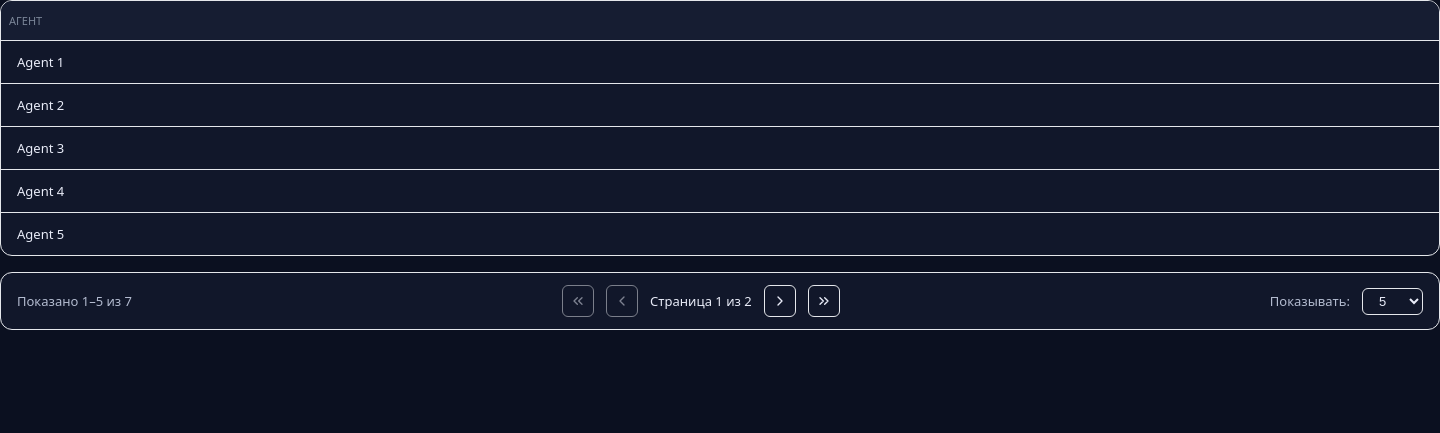
Test: changes the visible page size from the compact overview
Expected: the text "Agent 5" is shown, [1,212,1439,255]
Expected: the text "Agent 7" is not shown
Step 1. Select "10" in the dropdown → [1392, 301], box [1362,288,1423,314]
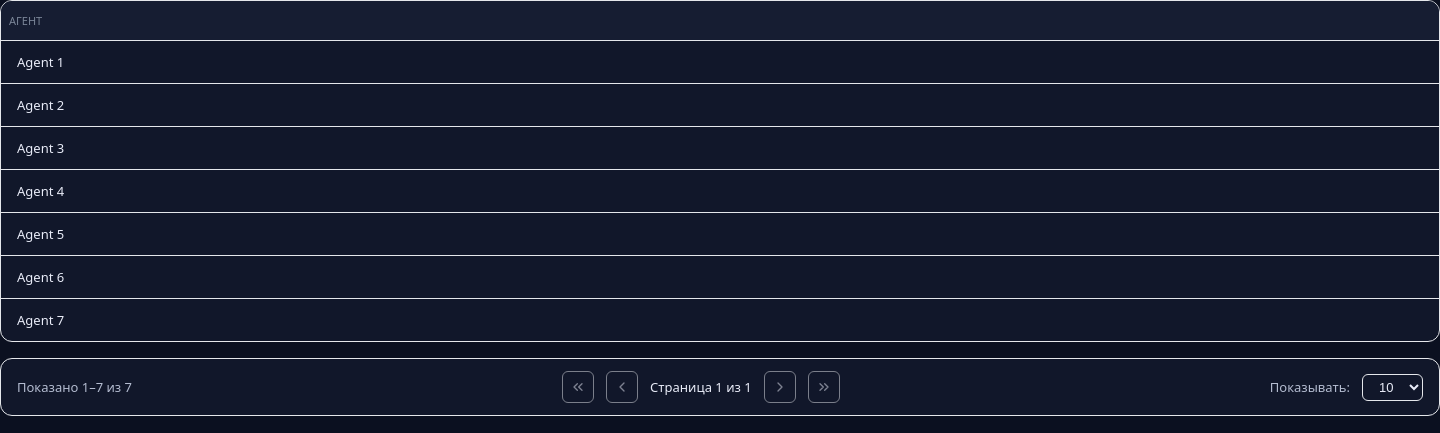
Expected: the text "Agent 7" is shown, [1,298,1439,341]
